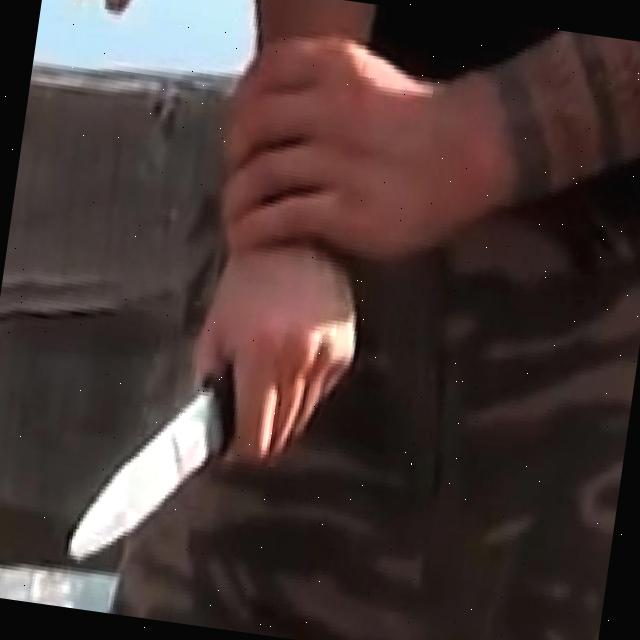suspicion: (60, 0, 410, 601), (65, 344, 244, 582)
